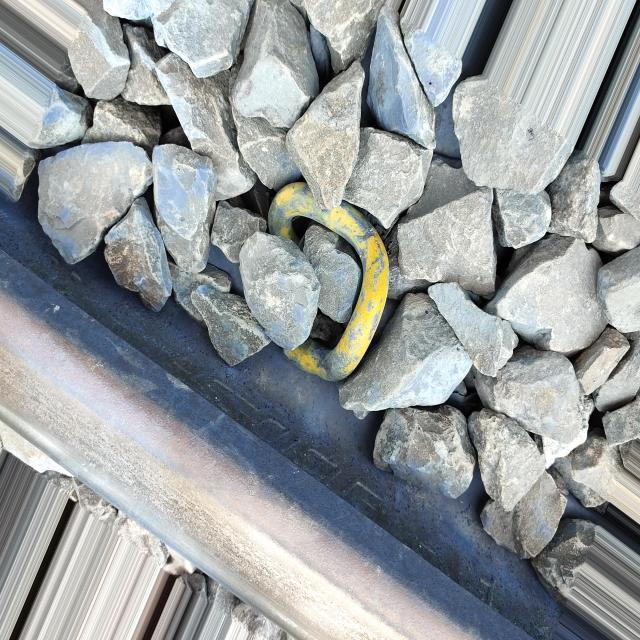Good Fasteners: (271, 183, 389, 381)
